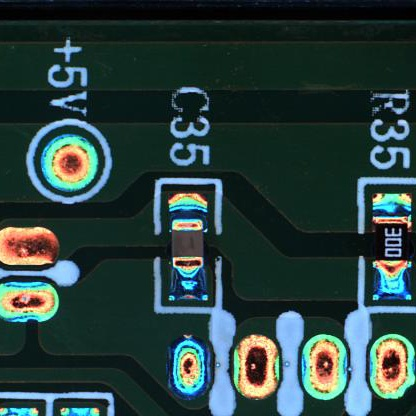spot: (36, 132, 101, 195), (300, 332, 352, 404), (231, 331, 284, 399), (164, 332, 213, 403)
